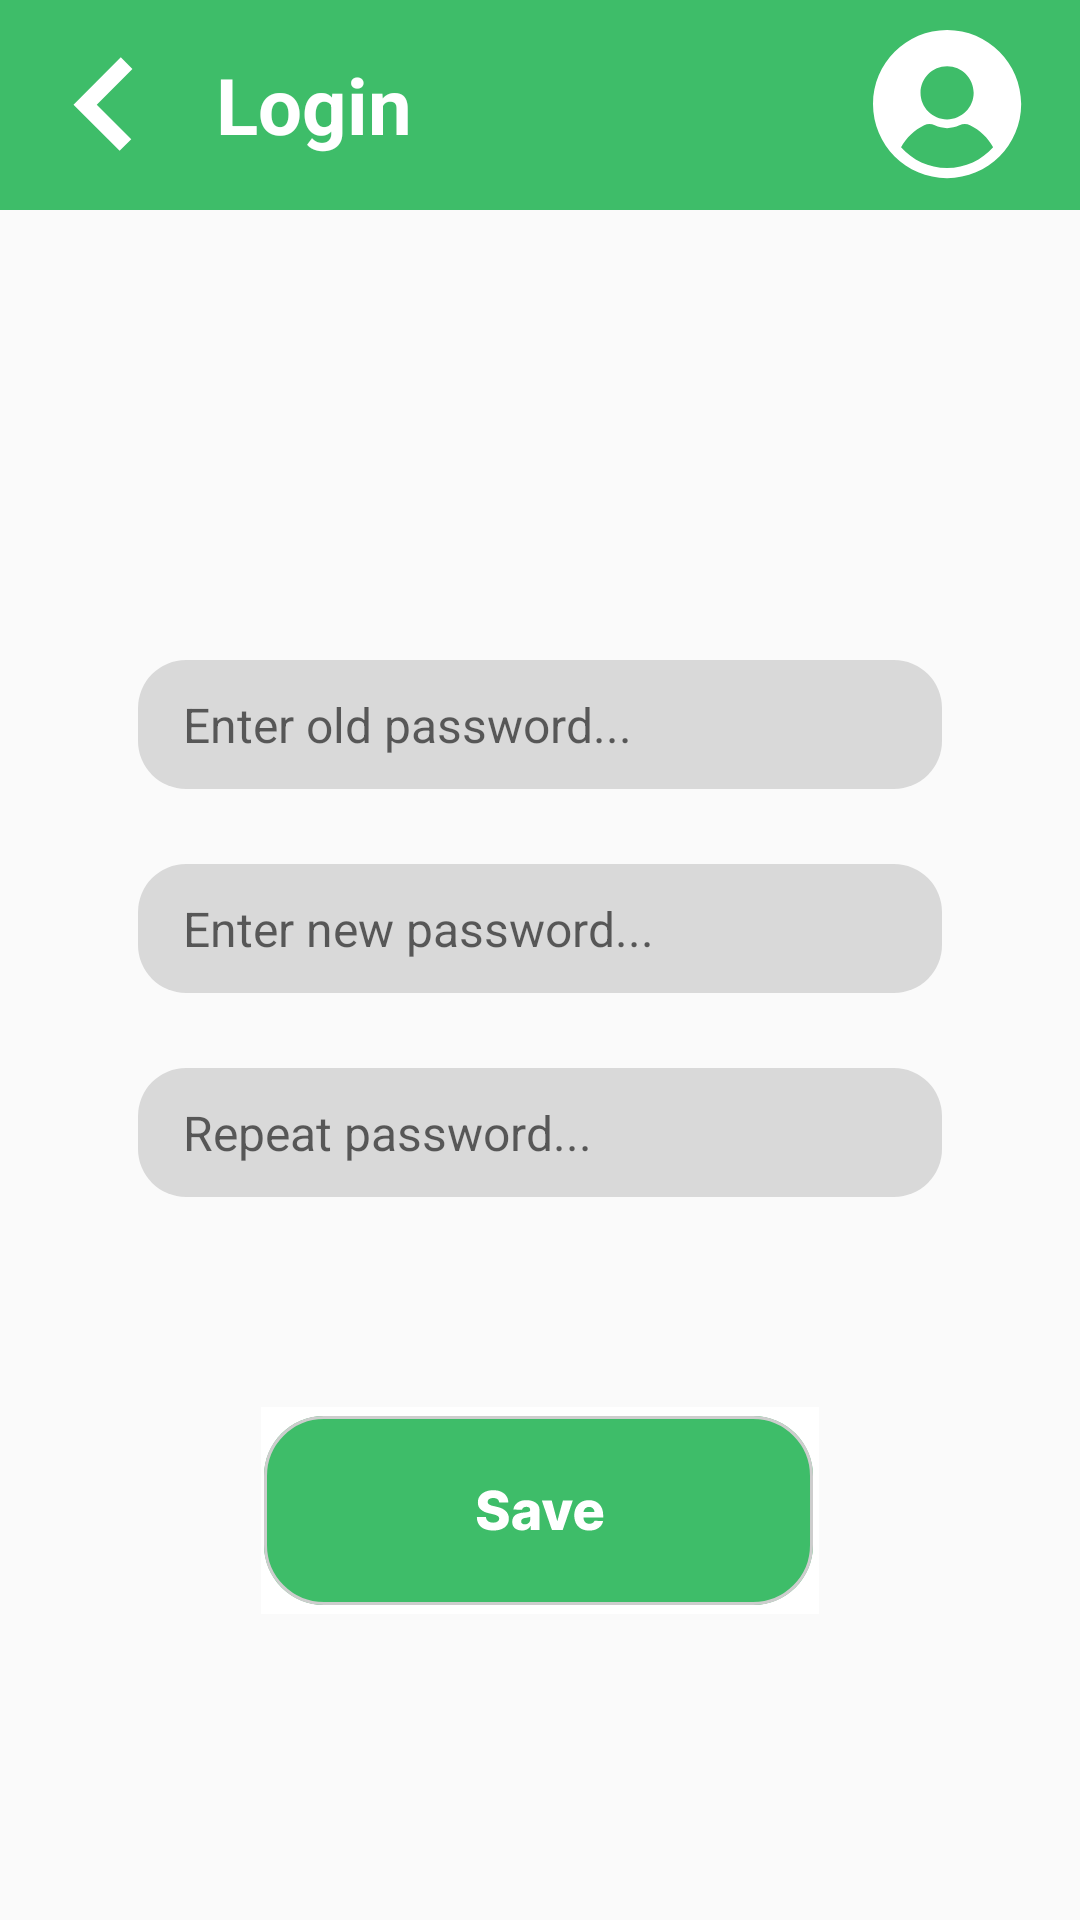

Icon click points for this 1080×1920 phone screenshot, format point (x, y):
back: point (102, 104)
